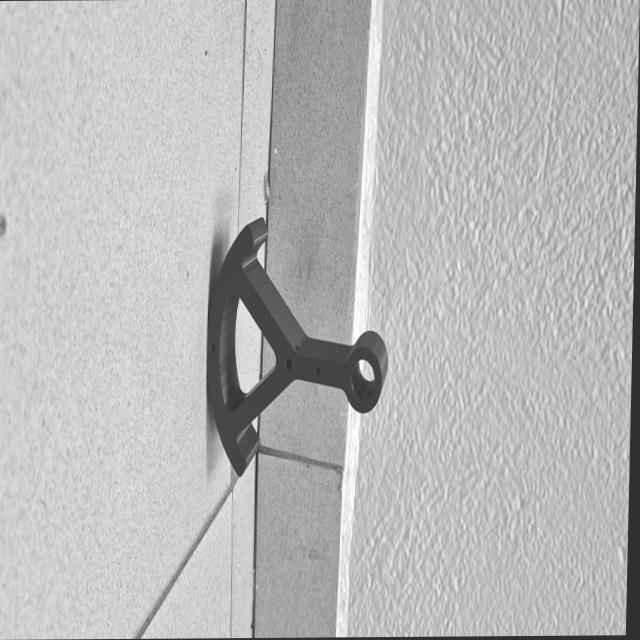haptic: (203, 214, 393, 478)
